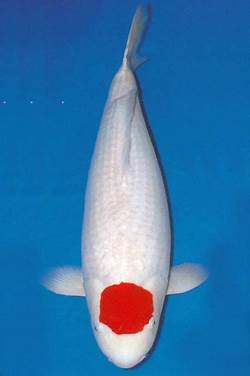sun: (39, 5, 211, 369)
